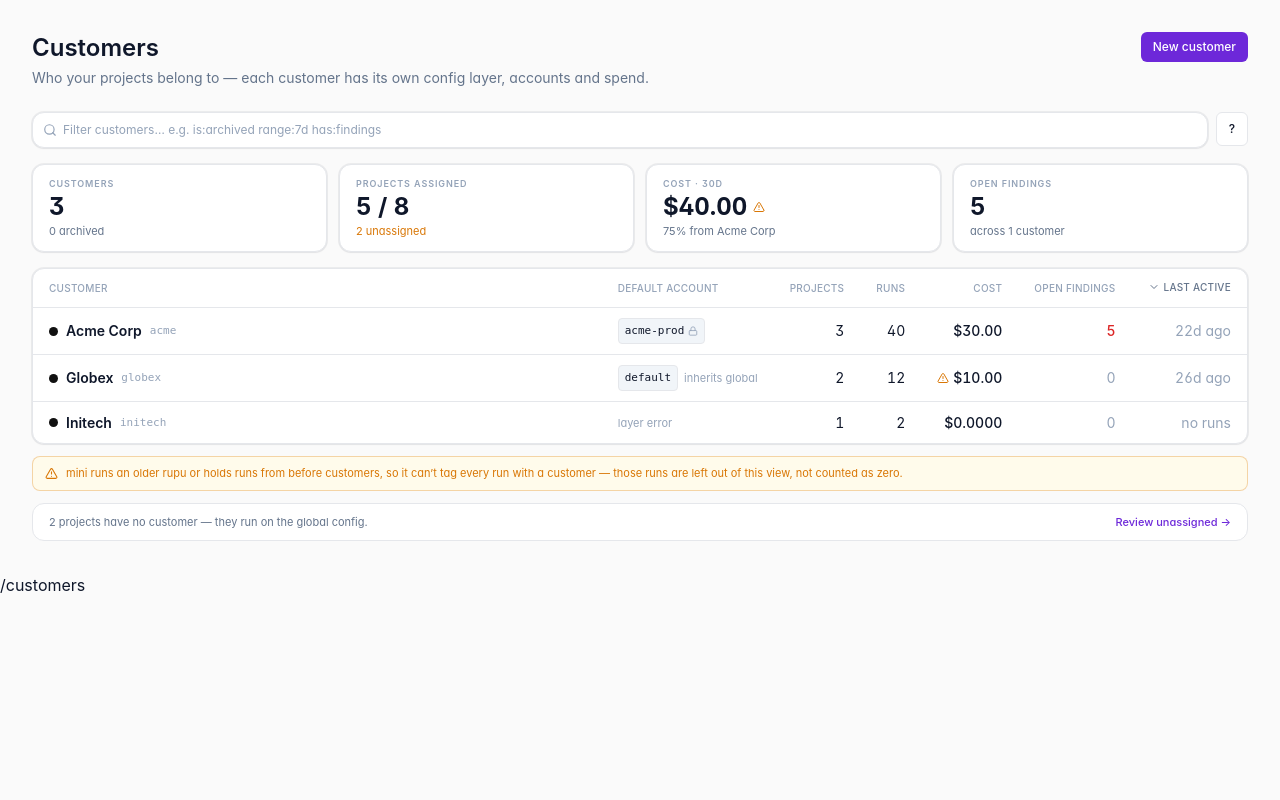
Test case: Customers page › a created customer reloads the list
This screenshot has width=1280, height=800.
Expected: the text "Acme Corp" is shown, [66,321,142,341]
Click the button "New customer" at (1194, 47), box [1141,32,1248,62]
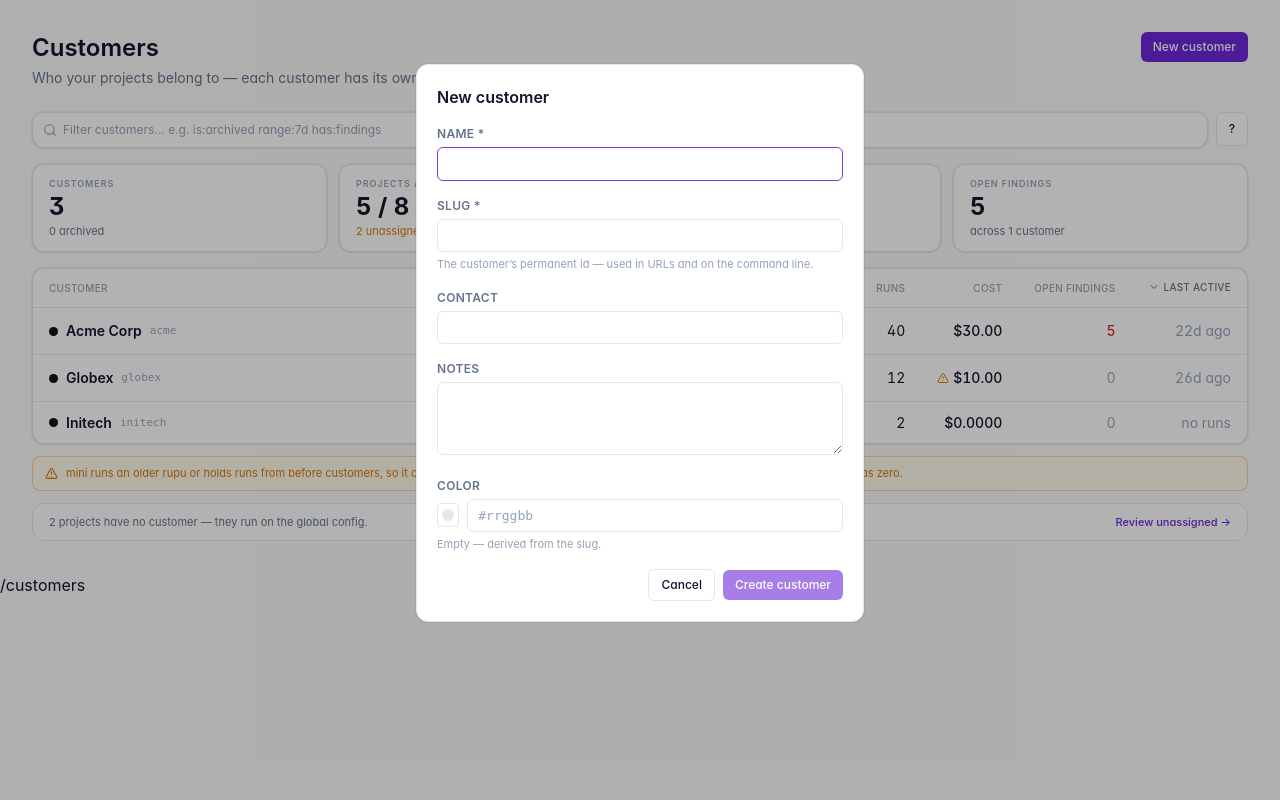
Type "Newco" into the field labelled "Name *" at (640, 164), box [437,147,843,180]
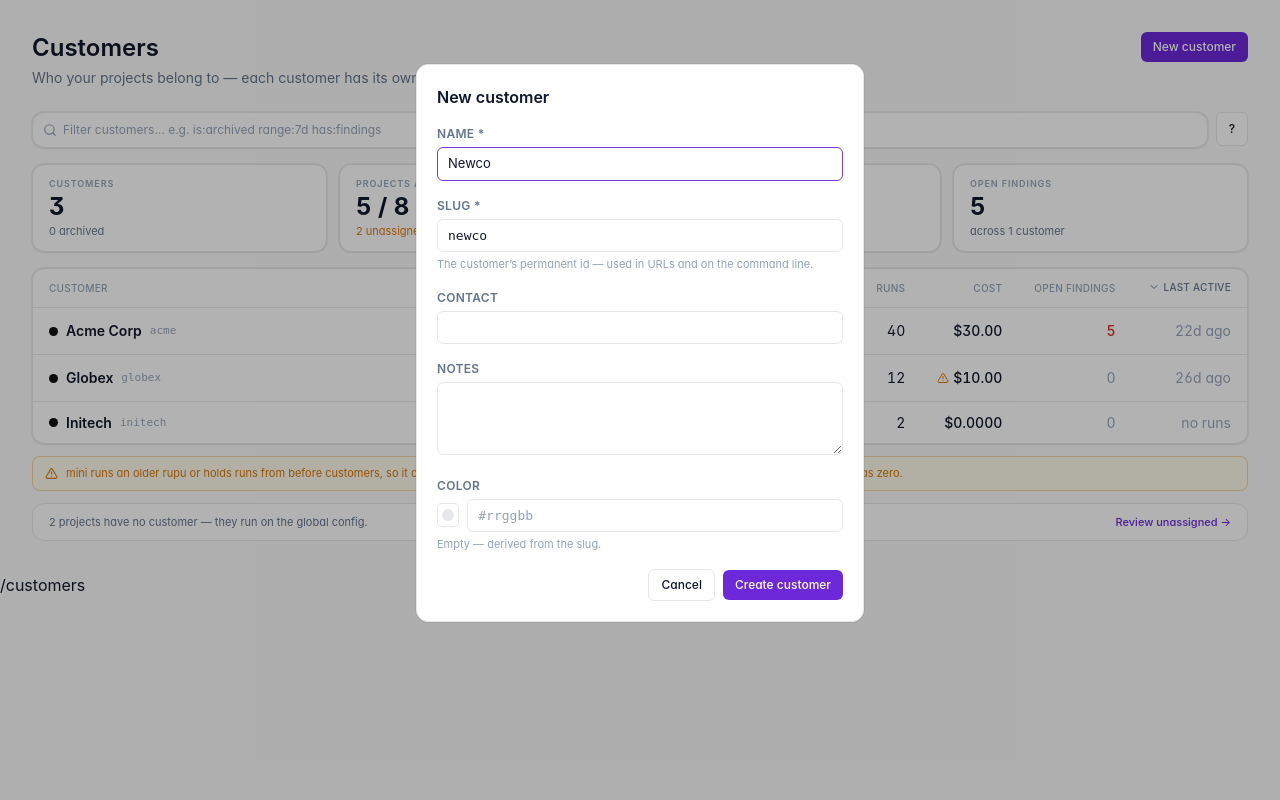
Click the button "Create customer" at (783, 584), box [723,570,843,600]
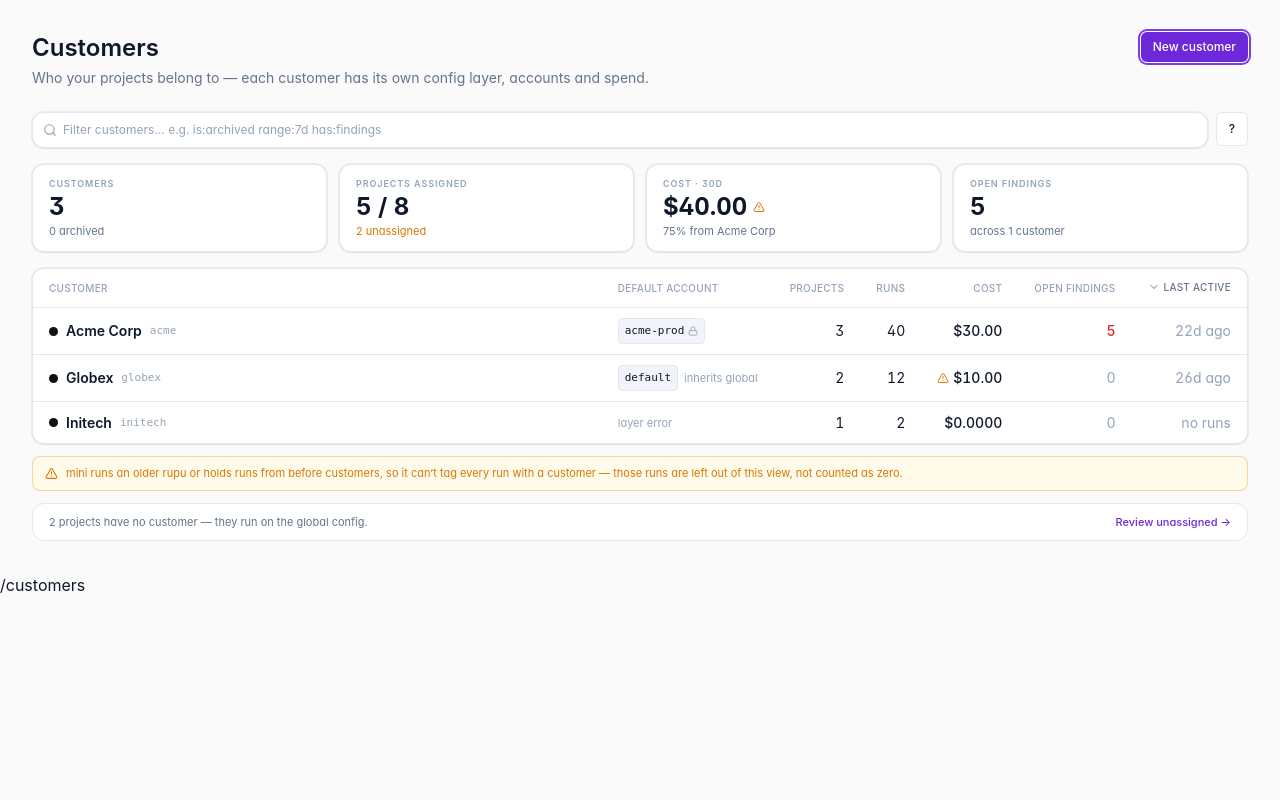
Expected: the dialog is gone
